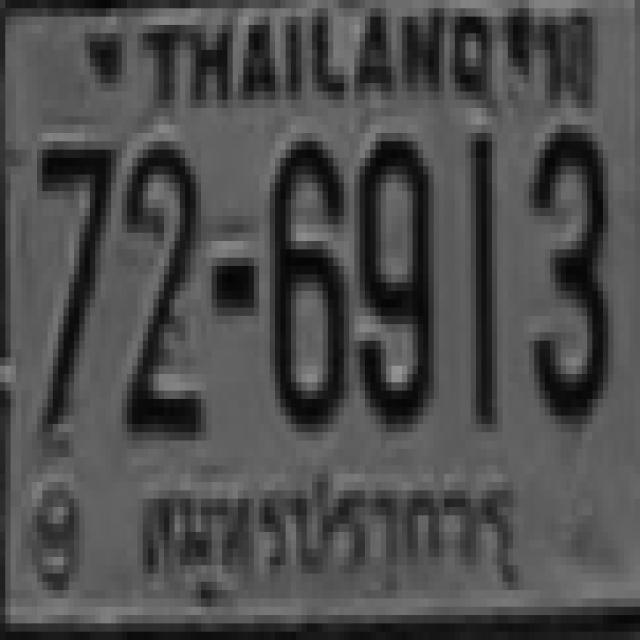1: (465, 129, 492, 420)
2: (121, 142, 196, 432)
3: (526, 124, 606, 416)
6: (264, 133, 344, 424)
7: (37, 137, 111, 428)
9: (354, 133, 428, 416)
SamutPrakan: (134, 462, 532, 612)
